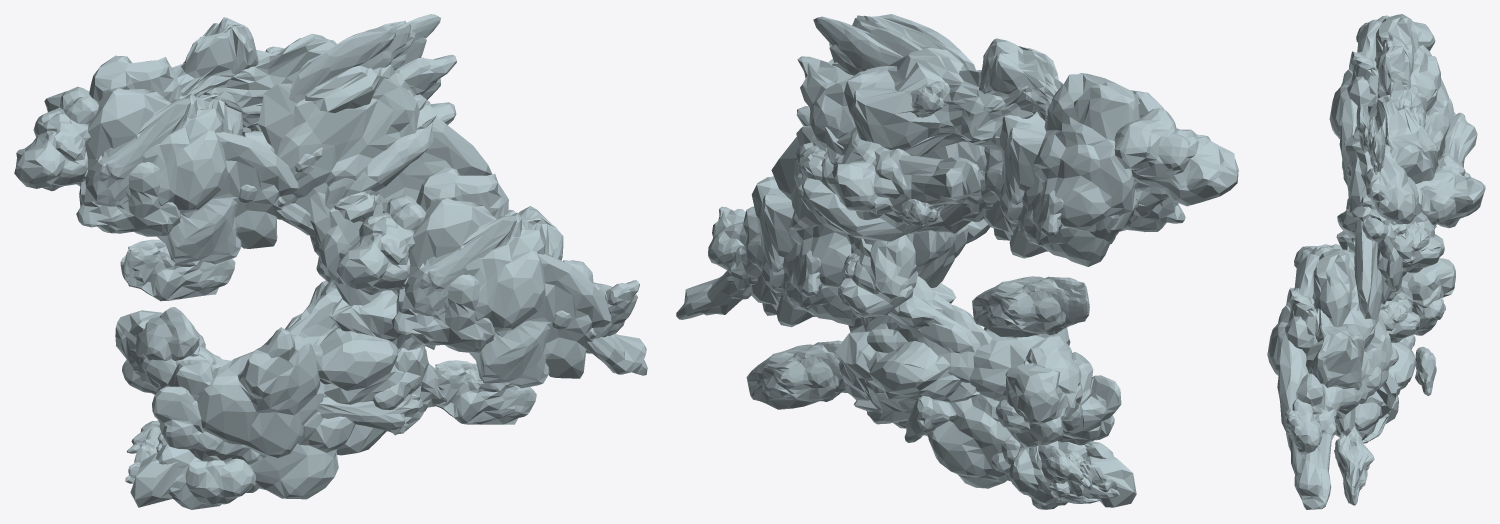
Rendered from Cloud_Ring_01.fbx.
The picture shows the model from 3 angles, left to right: view 1: azimuth 30°, elevation 25°; view 2: azimuth 150°, elevation 25°; view 3: azimuth 270°, elevation 25°; orthographic projection. The views are drawn at different scales.
Parts seen in each view (by area): view 1: Cloud_Ring_01; view 2: Cloud_Ring_01; view 3: Cloud_Ring_01.
Part boxes in pixels (x1,y1,x2,y2): Cloud_Ring_01: [14, 14, 647, 509]; Cloud_Ring_01: [676, 14, 1238, 509]; Cloud_Ring_01: [1267, 14, 1485, 509].
Size of the model in its own units: 264 by 198 by 105.
